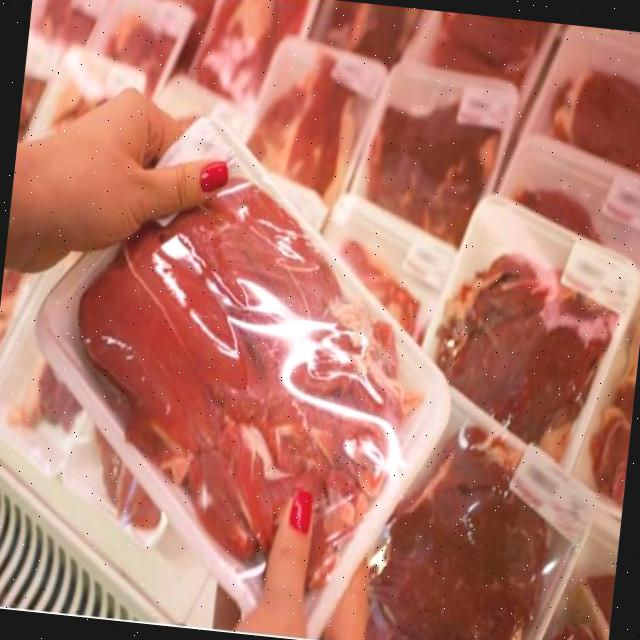meat: (25, 135, 488, 607)
